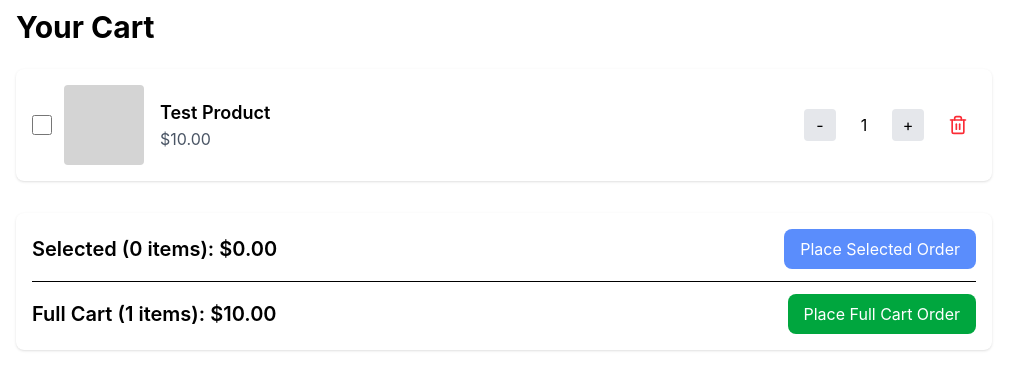
Test: increases quantity when "+" button is clicked
The width and height of the screenshot is (1009, 368).
Expected: the heading "Test Product" is shown, [160, 102, 270, 123]
Click the button "+": (908, 125) [892, 109, 924, 141]
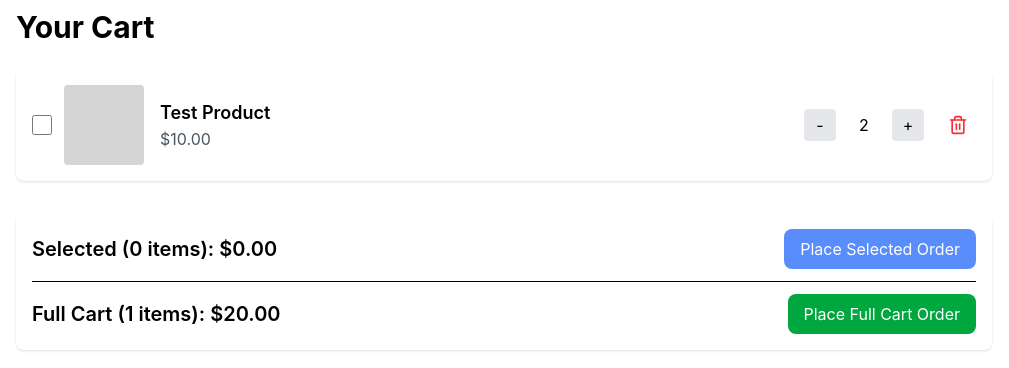
Now the text "2" is shown, box [859, 115, 869, 135]
